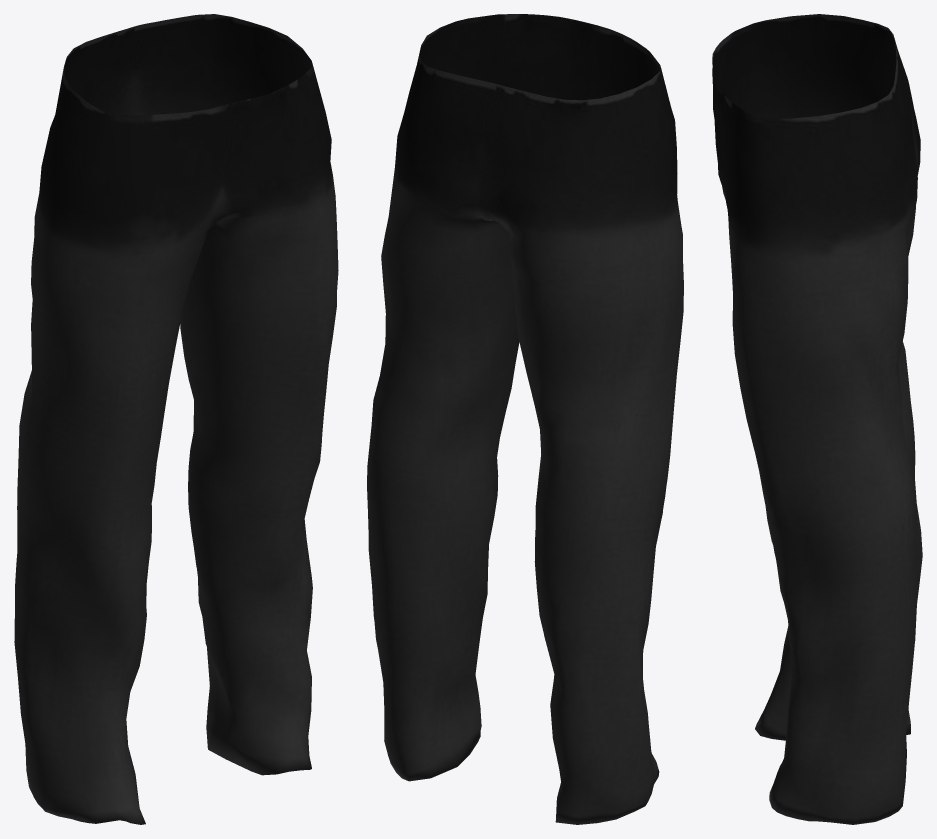
Rendered from bottom_suit_trousers.gltf.
3 views of the same model, side by side, from view 1: azimuth 30°, elevation 25°; view 2: azimuth 150°, elevation 25°; view 3: azimuth 270°, elevation 25° (orthographic). The views are drawn at different scales.
Visible parts, largest first — view 1: bottom_suit_trousers; view 2: bottom_suit_trousers; view 3: bottom_suit_trousers.
Boxes of the visible parts, <box> form: bottom_suit_trousers: <box>14,14,338,824</box>; bottom_suit_trousers: <box>367,14,683,824</box>; bottom_suit_trousers: <box>712,14,922,824</box>.
Size of the model in its own units: 0.3905 by 0.9792 by 0.2617.
Materials: 1 (1 with a texture image).
